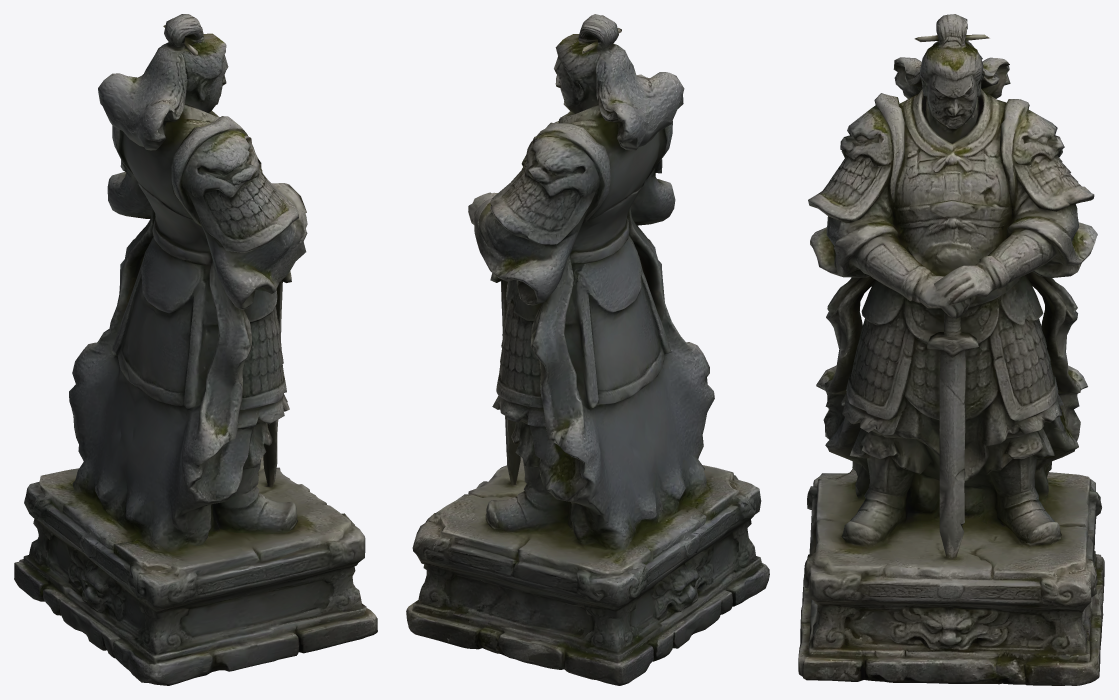
3 views of the same model, side by side, from view 1: azimuth 30°, elevation 25°; view 2: azimuth 150°, elevation 25°; view 3: azimuth 270°, elevation 25° (orthographic). The views are drawn at different scales.
Visible parts, largest first — view 1: tripo_node_95d5b69c-91fd-4a79-9bee-336247233db6; view 2: tripo_node_95d5b69c-91fd-4a79-9bee-336247233db6; view 3: tripo_node_95d5b69c-91fd-4a79-9bee-336247233db6.
Boxes of the visible parts, <box> form: tripo_node_95d5b69c-91fd-4a79-9bee-336247233db6: <box>14,14,377,685</box>; tripo_node_95d5b69c-91fd-4a79-9bee-336247233db6: <box>406,14,769,685</box>; tripo_node_95d5b69c-91fd-4a79-9bee-336247233db6: <box>798,14,1104,685</box>.
Size of the model in its own units: 0.4081 by 1 by 0.4555.
1 material, 1 textured.
